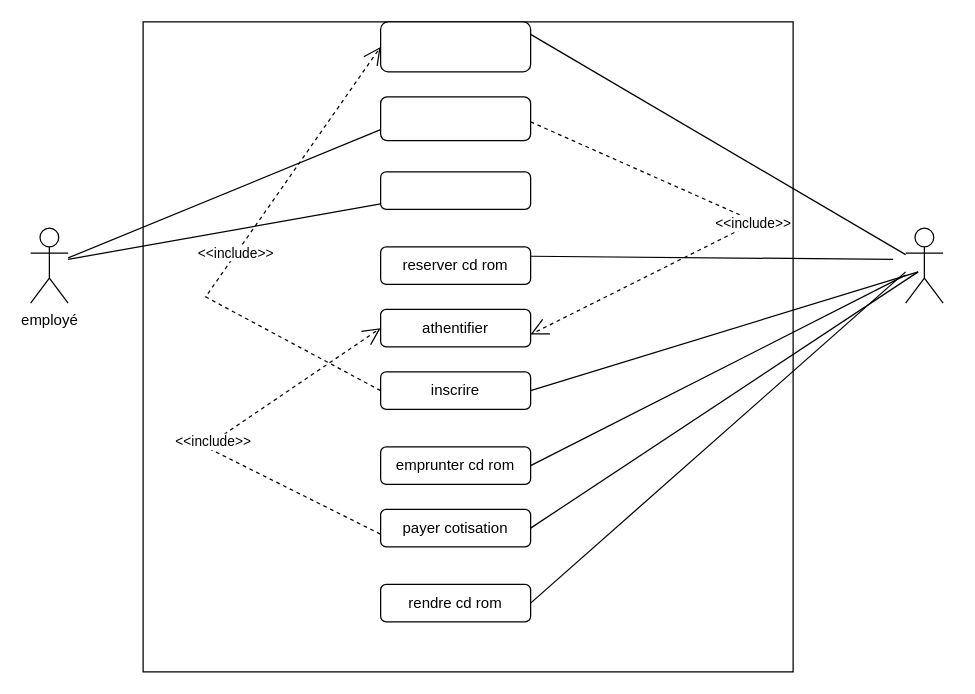
Some shapes in this 975 by 694 pixel diagram are drawn without their labels. The centre of each missing label's shape, as x and y in pixels:
adherent: [923,265]
enregistrer emprunt: [455,190]
organiser evenement: [455,118]
verifier disponiblite: [455,46]
